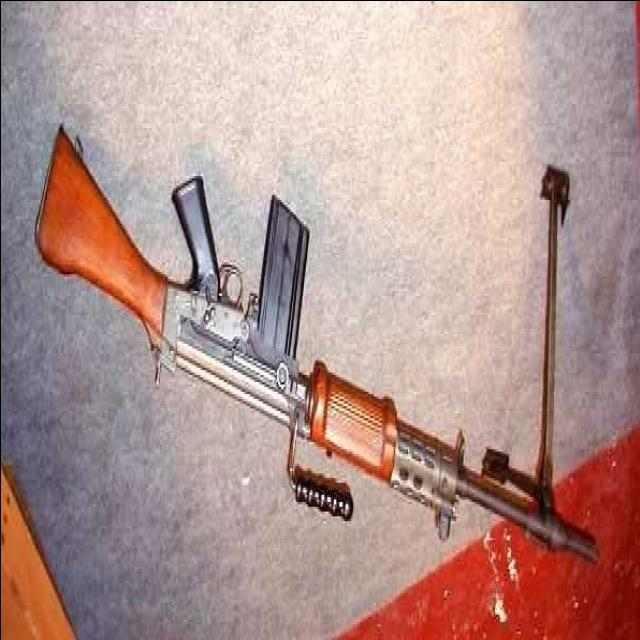heavyweapon: (30, 93, 602, 615)
